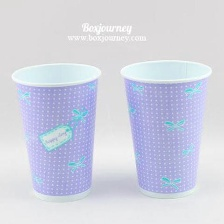paper_cup: (6, 57, 106, 206), (116, 55, 216, 202)
